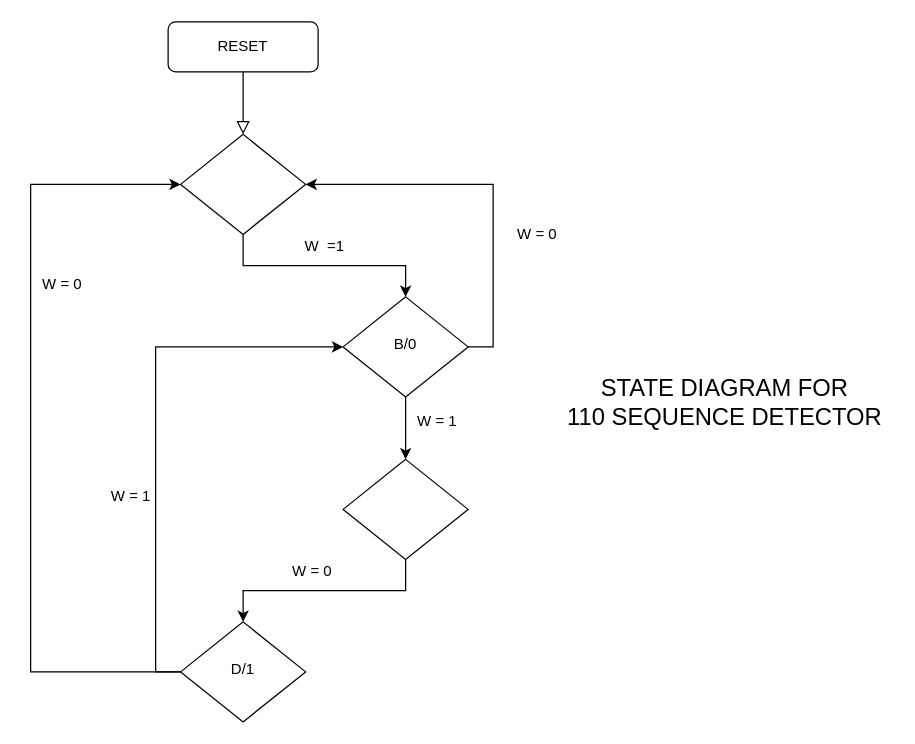
Image size: 915x744. Some labels were removed from this diagram. The centre of each missing label's shape, as x and y in pixels:
"A/0" goes at (x=242, y=183).
"C/0" goes at (x=405, y=508).
